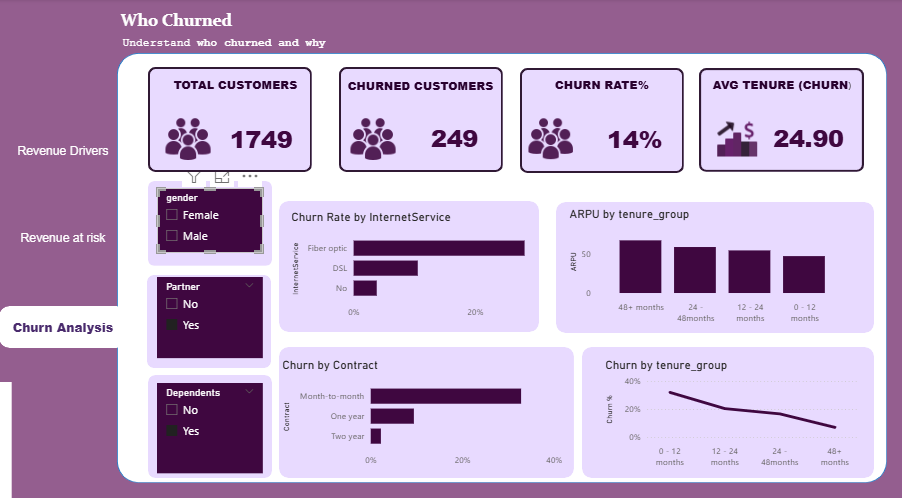

This screenshot's page, from the dashboard's own definition file:
{"tool":"powerbi","page":{"name":"Page 3","canvas":[1280,720],"ordinal":2},"visuals":[{"type":"shape","box":[167.2,76.5,1091.3,609.4],"z":0},{"type":"card","fields":{"Values":["Sheet1.Churn Rate"]},"box":[827.1,155.8,146,85],"z":0,"group":"g1"},{"type":"shape","box":[738.4,97.8,232.4,148.8],"z":1000},{"type":"image","box":[738.7,161.7,87.9,73.3],"z":1000,"group":"g1"},{"type":"shape","box":[211.2,96.4,232.4,148.8],"z":2000,"group":"g2"},{"type":"shape","box":[396.9,286.3,368.5,185.7],"z":2000},{"type":"shape","box":[992.1,97.8,233.9,147.4],"z":3000},{"type":"shape","box":[481.9,96.4,232.4,148.8],"z":4000,"group":"g3"},{"type":"shape","box":[789.4,287.7,450.7,185.7],"z":4000},{"type":"shape","box":[826.3,493.2,413.9,185.7],"z":5000},{"type":"shape","box":[211.2,258,175.7,120.5],"z":6000},{"type":"shape","box":[211.2,532.9,175.7,146],"z":7000},{"type":"shape","box":[396.9,493.2,418.1,185.7],"z":8000},{"type":"textbox","box":[167.2,9.9,1091.3,41.1],"z":9000},{"type":"textbox","box":[170.1,48.2,1091.3,29.8],"z":10000},{"type":"group","id":"g1","title":"Group 2","box":[738.4,104.9,234.7,135.9],"z":11000},{"type":"textbox","box":[738.4,104.9,232.4,42.5],"z":12000,"group":"g1"},{"type":"barChart","fields":{"Category":["Sheet1.InternetService"],"Y":["Sheet1.Churn Rate"]},"box":[409.6,299.1,368.5,163],"z":12000},{"type":"textbox","box":[226.8,104.9,216.9,42.5],"z":13000,"group":"g2"},{"type":"textbox","box":[997.8,104.9,223.9,62.4],"z":13000},{"type":"columnChart","fields":{"Y":["Sheet1.ARPU"],"Category":["Sheet1.tenure_group"]},"box":[803.6,294.8,405.4,172.9],"z":14000},{"type":"barChart","title":"Churn by Contract","fields":{"Category":["Sheet1.Contract"],"Y":["Sheet1.Churn %"]},"box":[396.9,508.8,406.8,163],"z":15000},{"type":"card","fields":{"Values":["Sheet1.Total Customers"]},"box":[289.2,161.5,164.4,73.7],"z":16000,"group":"g2"},{"type":"card","fields":{"Values":["Sheet1.Avg Tenure Churned"]},"box":[1068.7,170.7,157.3,55.3],"z":16000},{"type":"lineChart","title":"Churn by tenure_group","fields":{"Category":["Sheet1.tenure_group"],"Y":["Sheet1.Churn %"]},"box":[854.6,508.8,371.3,163],"z":17000},{"type":"textbox","box":[469.1,106.3,256.5,36.9],"z":18000,"group":"g3"},{"type":"slicer","fields":{"Values":["Sheet1.gender"]},"box":[223.9,267.9,150.2,92.1],"z":18000},{"type":"slicer","fields":{"Values":["Sheet1.Dependents"]},"box":[223.9,544.3,150.2,127.6],"z":19000},{"type":"card","fields":{"Values":["Sheet1.Churned customers"]},"box":[574,170.7,143.1,55.3],"z":20000,"group":"g3"},{"type":"shape","box":[209.8,391.2,175.7,131.8],"z":20000},{"type":"slicer","fields":{"Values":["Sheet1.Partner"]},"box":[223.9,394,150.2,114.8],"z":21000},{"type":"shape","box":[0,184.3,181.4,59.5],"z":22000},{"type":"shape","box":[0,542.8,18.4,177.2],"z":23000},{"type":"shape","box":[0,307.6,181.4,59.5],"z":24000},{"type":"image","box":[1006.3,159.3,79.4,78],"z":25000},{"type":"shape","box":[0,435.1,181.4,59.5],"z":26000},{"type":"group","id":"g2","title":"Group 1","box":[211.2,96.4,242.4,148.8],"z":27000},{"type":"group","id":"g3","title":"Group 3","box":[469.1,96.4,256.5,148.8],"z":28000},{"type":"image","box":[223.9,161.4,87.9,73.7],"z":32000},{"type":"image","box":[486.1,161.5,87.9,73.7],"z":32000,"group":"g3"}]}

Visuals, with their boxes on the page's 1280x720 design canvas (x1, y1, x2, y2). These are canvas units, not pixel positions in the 902x498 screenshot, which may show the page scaled, cropped or inside an application window:
shape: detection(167, 76, 1258, 686)
card - Sheet1.Churn Rate: detection(827, 156, 973, 241)
shape: detection(738, 98, 971, 247)
image: detection(739, 162, 827, 235)
shape: detection(211, 96, 444, 245)
shape: detection(397, 286, 765, 472)
shape: detection(992, 98, 1226, 245)
shape: detection(482, 96, 714, 245)
shape: detection(789, 288, 1240, 473)
shape: detection(826, 493, 1240, 679)
shape: detection(211, 258, 387, 378)
shape: detection(211, 533, 387, 679)
shape: detection(397, 493, 815, 679)
textbox: detection(167, 10, 1258, 51)
textbox: detection(170, 48, 1261, 78)
"Group 2" group: detection(738, 105, 973, 241)
textbox: detection(738, 105, 971, 147)
barChart - Sheet1.InternetService x Sheet1.Churn Rate: detection(410, 299, 778, 462)
textbox: detection(227, 105, 444, 147)
textbox: detection(998, 105, 1222, 167)
columnChart - Sheet1.ARPU x Sheet1.tenure_group: detection(804, 295, 1209, 468)
"Churn by Contract" barChart: detection(397, 509, 804, 672)
card - Sheet1.Total Customers: detection(289, 162, 454, 235)
card - Sheet1.Avg Tenure Churned: detection(1069, 171, 1226, 226)
"Churn by tenure_group" lineChart: detection(855, 509, 1226, 672)
textbox: detection(469, 106, 726, 143)
slicer - Sheet1.gender: detection(224, 268, 374, 360)
slicer - Sheet1.Dependents: detection(224, 544, 374, 672)
card - Sheet1.Churned customers: detection(574, 171, 717, 226)
shape: detection(210, 391, 386, 523)
slicer - Sheet1.Partner: detection(224, 394, 374, 509)
shape: detection(0, 184, 181, 244)
shape: detection(0, 543, 18, 720)
shape: detection(0, 308, 181, 367)
image: detection(1006, 159, 1086, 237)
shape: detection(0, 435, 181, 495)
"Group 1" group: detection(211, 96, 454, 245)
"Group 3" group: detection(469, 96, 726, 245)
image: detection(224, 161, 312, 235)
image: detection(486, 162, 574, 235)
